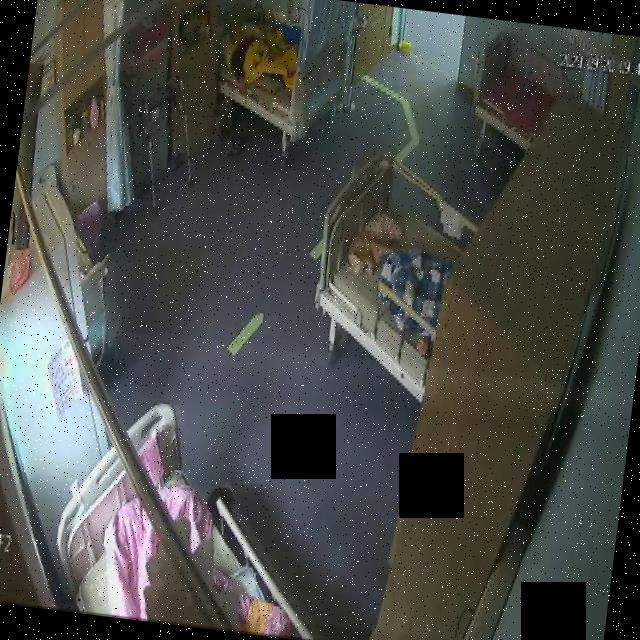bed: (48, 392, 305, 638), (302, 146, 464, 402), (210, 4, 350, 145), (458, 28, 560, 142)
